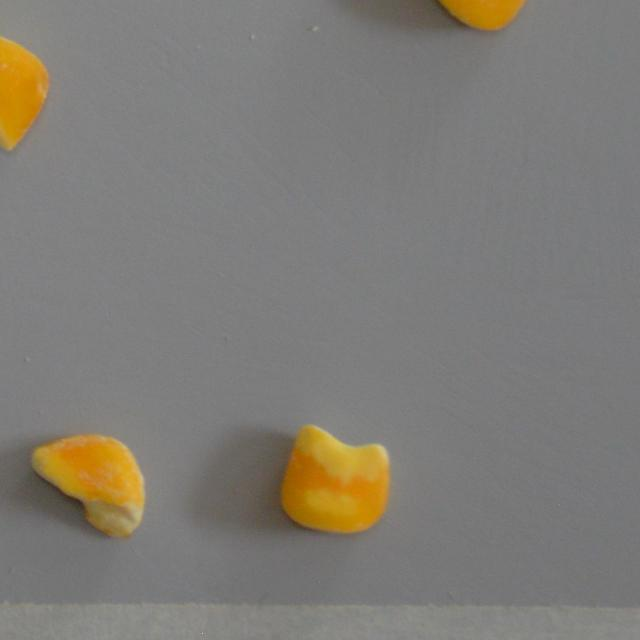no_canjicado: (276, 422, 391, 536), (0, 31, 49, 150), (422, 0, 540, 31)
pelicula: (30, 430, 146, 539)
